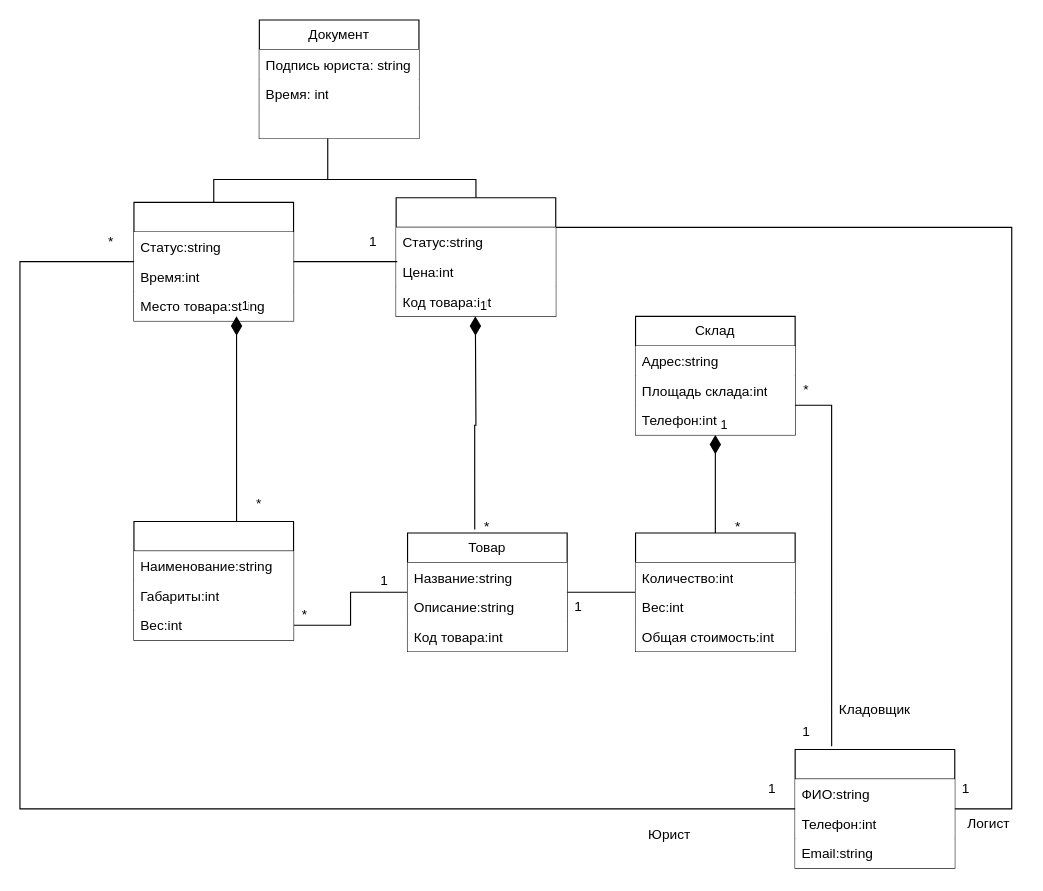
Some shapes in this 1043 by 891 pixel diagram are drawn without their labels. Each missing label, with the box of its shape:
Заказ: (395, 197, 556, 316)
Заполнение накладной: (133, 520, 294, 640)
Накладная: (133, 201, 294, 321)
Номер:int: (259, 108, 418, 138)
Сотрудник: (794, 748, 955, 868)
Товар на складе: (634, 532, 795, 652)
